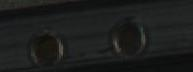joints: (109, 14, 147, 58), (27, 25, 67, 66)
